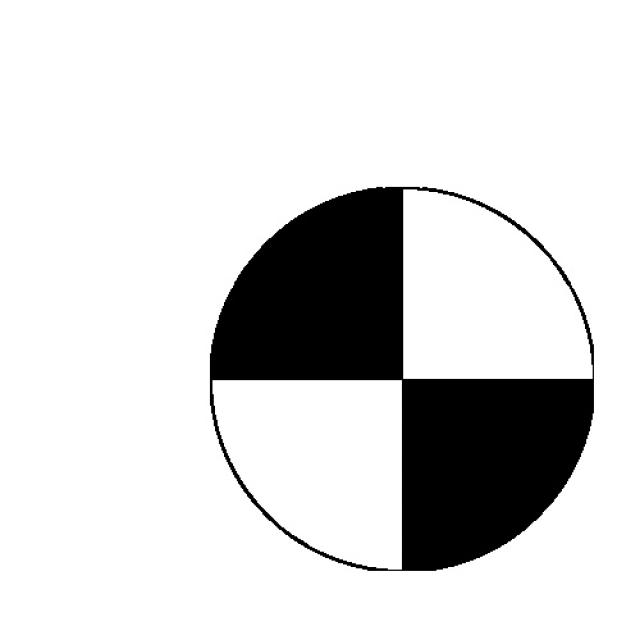Marcadores: (210, 187, 593, 571)
